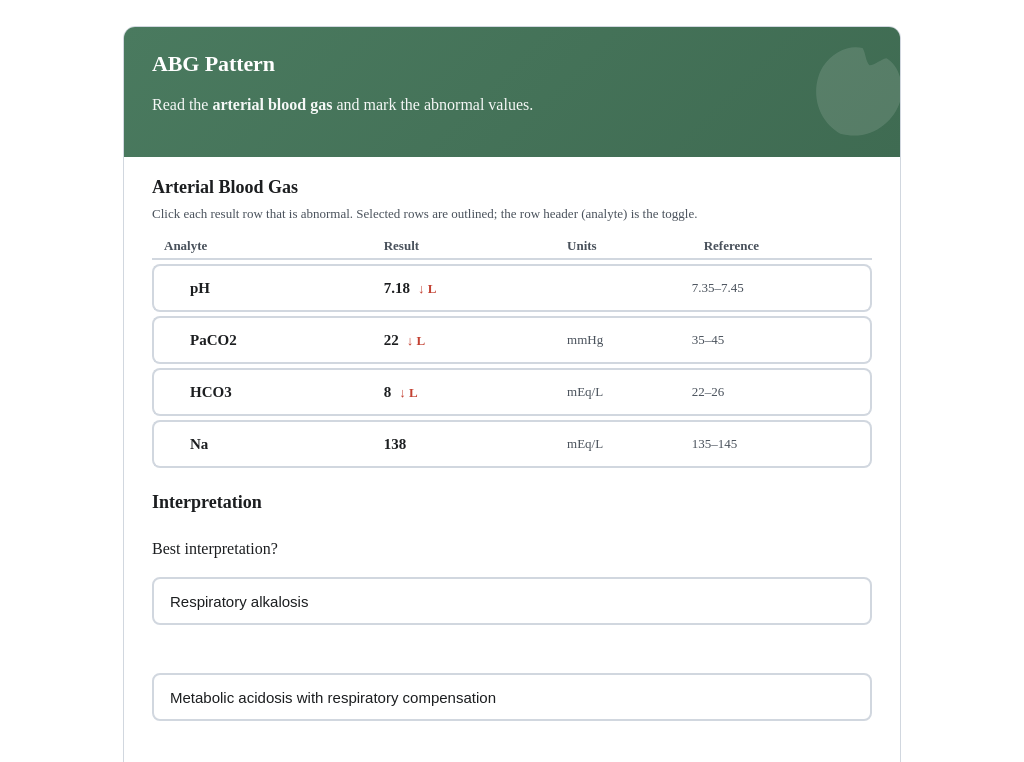
Scenario: LabPanel › Check is disabled until an interpretation is picked
Note: Toggling rows alone does not enable Check — interpretation is required.
Click the button with aria-label "toggle ph,": point(263, 288) [154,266,372,310]
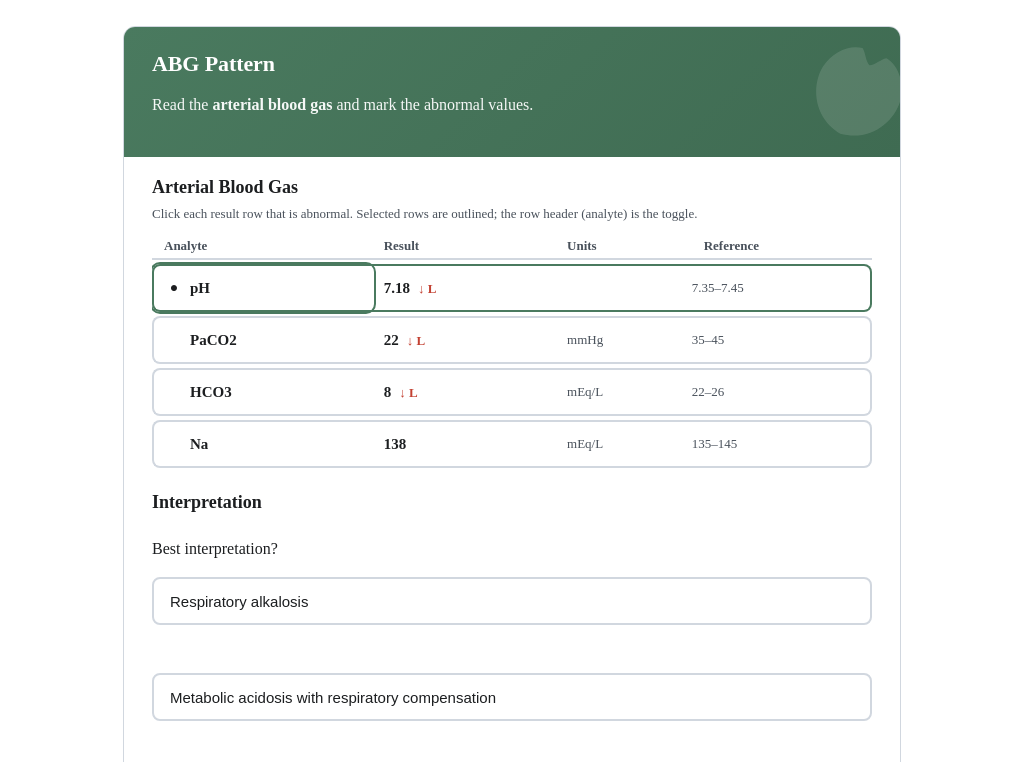
Click the button "Metabolic acidosis with respiratory compensation": point(333, 697) [152,673,872,721]
(page scrolled)
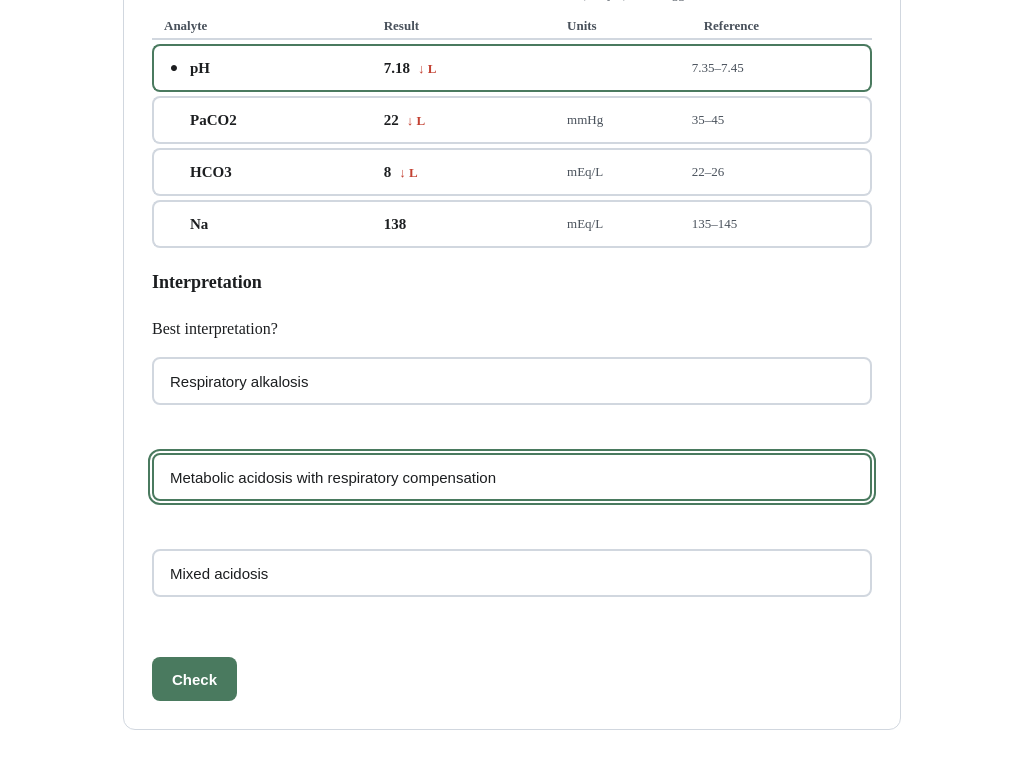
Check: the button "Check" is enabled, box [152,657,237,701]
